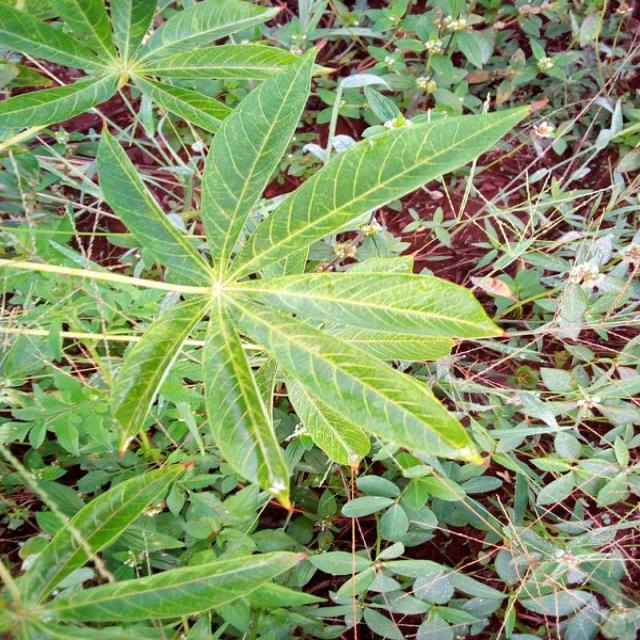cassava leaf: (87, 43, 533, 510), (228, 97, 542, 278), (199, 43, 318, 271)
